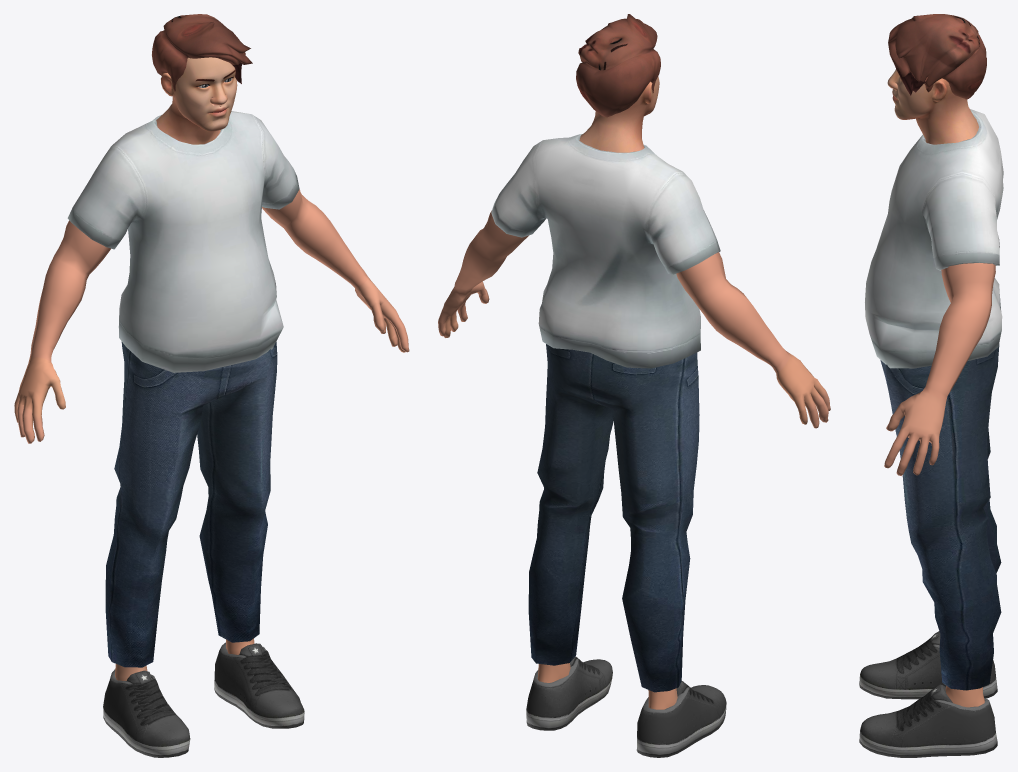
The model's file is Fat_Character_Base.glb.
3 views of the same model, side by side, from view 1: azimuth 30°, elevation 25°; view 2: azimuth 150°, elevation 25°; view 3: azimuth 270°, elevation 25° (orthographic).
Visible parts, largest first — view 1: Head.002, Head.001, Head.004, Head.003, Head.011, Head.005, Head.012, Head.008; view 2: Head.001, Head.002, Head.004, Head.008, Head.011, Head.012, Head.003, Head.005; view 3: Head.002, Head.001, Head.003, Head.012, Head.008, Head.005, Head.011, Head.009.
Boxes of the visible parts, x1,y1,x2,y2 form: Head.002: (67,111,299,372); Head.001: (105,341,277,667); Head.004: (14,220,110,443); Head.003: (262,189,409,352); Head.011: (103,669,190,757); Head.005: (156,57,237,144); Head.012: (214,642,304,728); Head.008: (152,14,252,91); Head.001: (528,344,699,692); Head.002: (491,134,720,368); Head.004: (676,252,830,428); Head.008: (576,14,660,117); Head.011: (636,681,726,757); Head.012: (526,656,612,730); Head.003: (438,210,528,337); Head.005: (579,76,659,152); Head.002: (865,109,1003,368); Head.001: (880,344,1001,690); Head.003: (884,263,995,475); Head.012: (859,684,997,757); Head.008: (888,14,986,99); Head.005: (887,69,978,144); Head.011: (859,631,997,699); Head.009: (945,686,984,707).
Bounding box in the file's own units: 1.06 × 1.87 × 0.3477.
6 materials, 6 textured.
